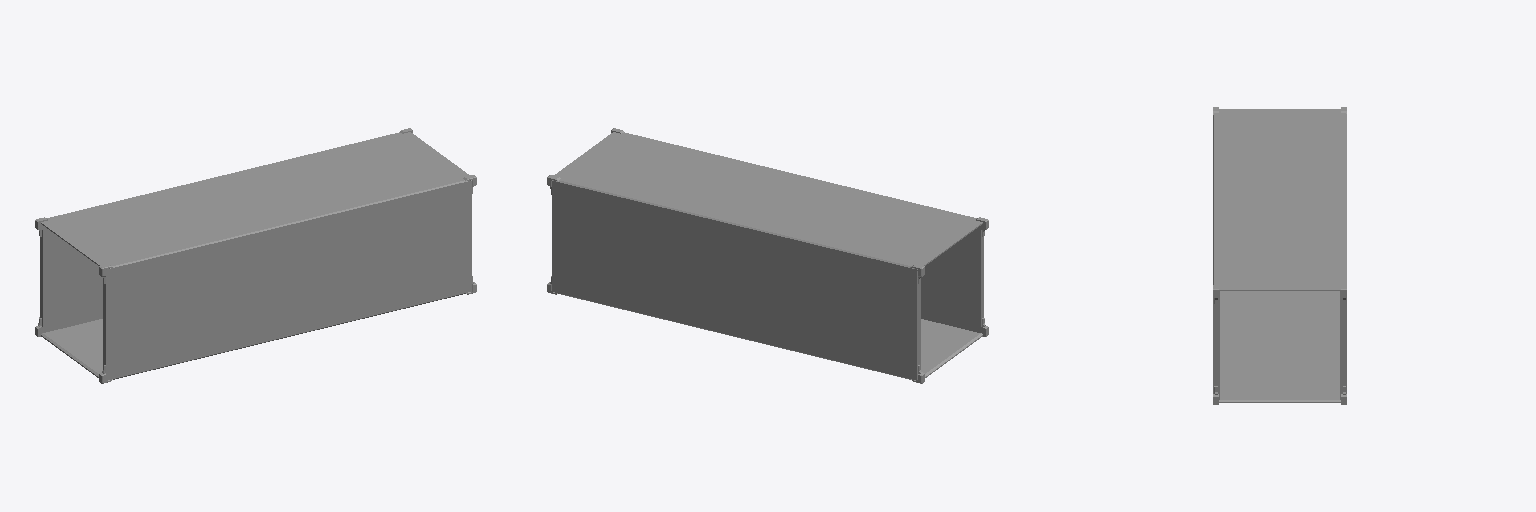
Rendered from Cargo_container_02.obj.
The picture shows the model from 3 angles: view 1: azimuth 30°, elevation 25°; view 2: azimuth 150°, elevation 25°; view 3: azimuth 270°, elevation 25°; orthographic projection.
Visible parts, largest first — view 1: default; view 2: default; view 3: default.
Part boxes in pixels (x1,y1,x2,y2): default: (35, 128, 476, 383); default: (547, 128, 988, 383); default: (1213, 107, 1346, 404).
Size of the model in its own units: 16.81 by 4.94 by 5.21.